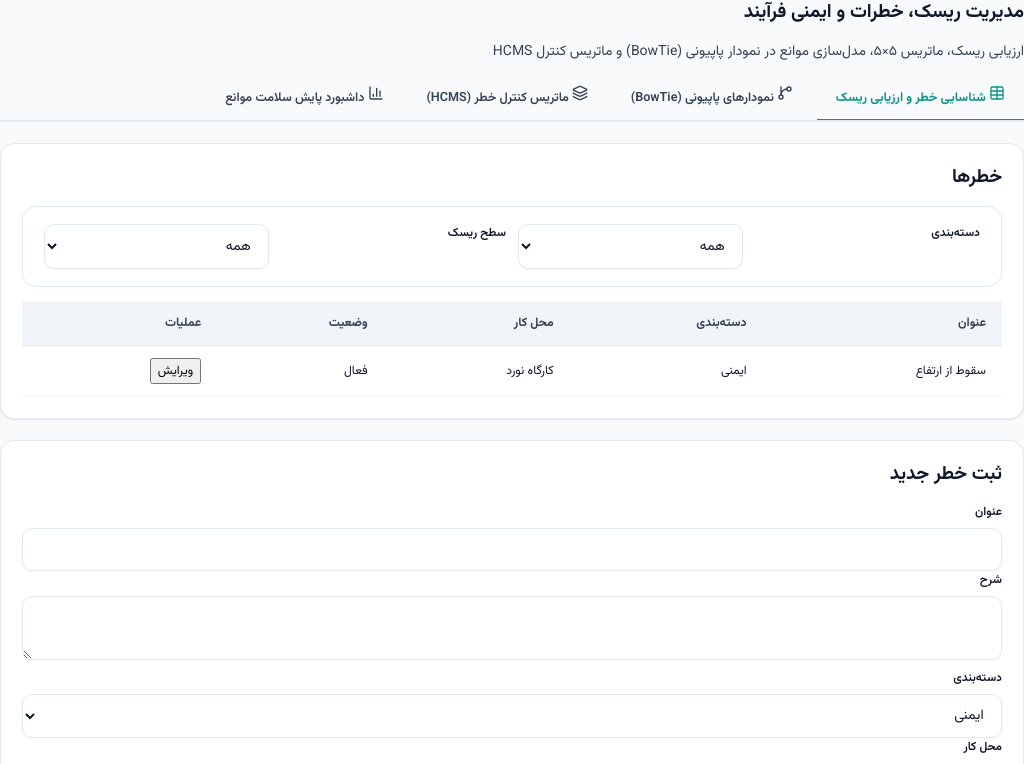
Test: RisksPage — Phase 11 BowTie & HCMS › switches to HCMS Control Matrix and renders hierarchy
The image size is (1024, 764).
Click the button "ماتریس کنترل خطر (HCMS)": (507, 98) [408, 75, 607, 122]
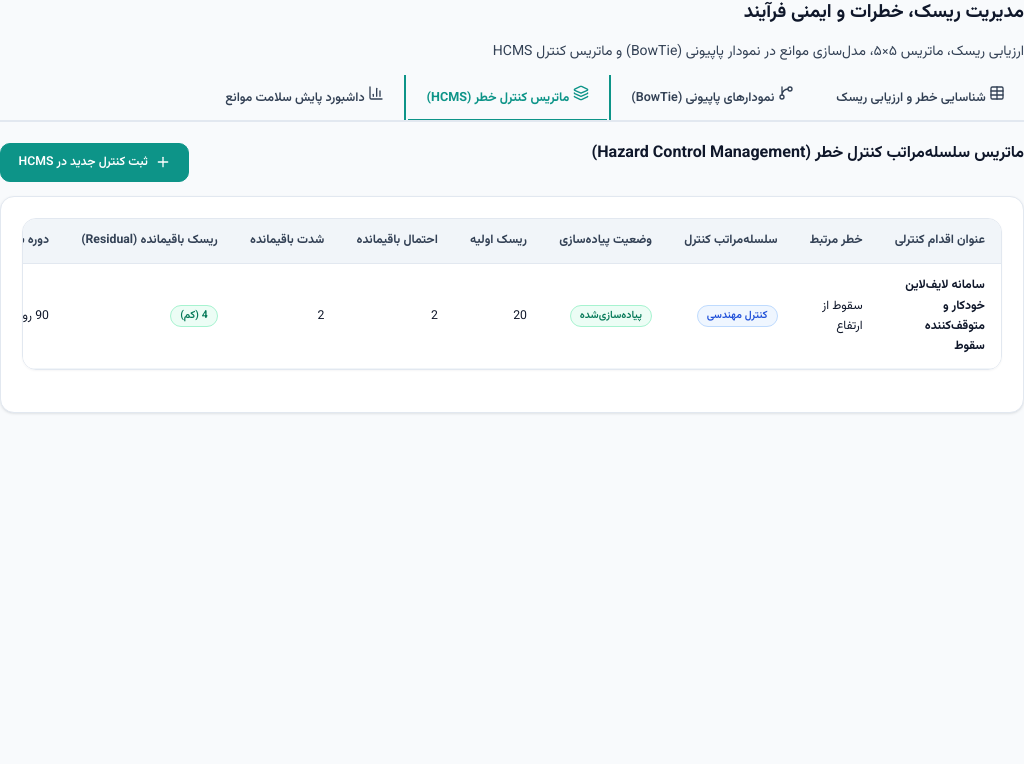
Expected: the text "سامانه لایف‌لاین خودکار و متوقف‌کننده سقوط" is shown, [905, 275, 985, 356]
Expected: the text "کنترل مهندسی" is shown, [696, 305, 778, 326]
Expected: the text "پیاده‌سازی‌شده" is shown, [570, 305, 652, 326]
